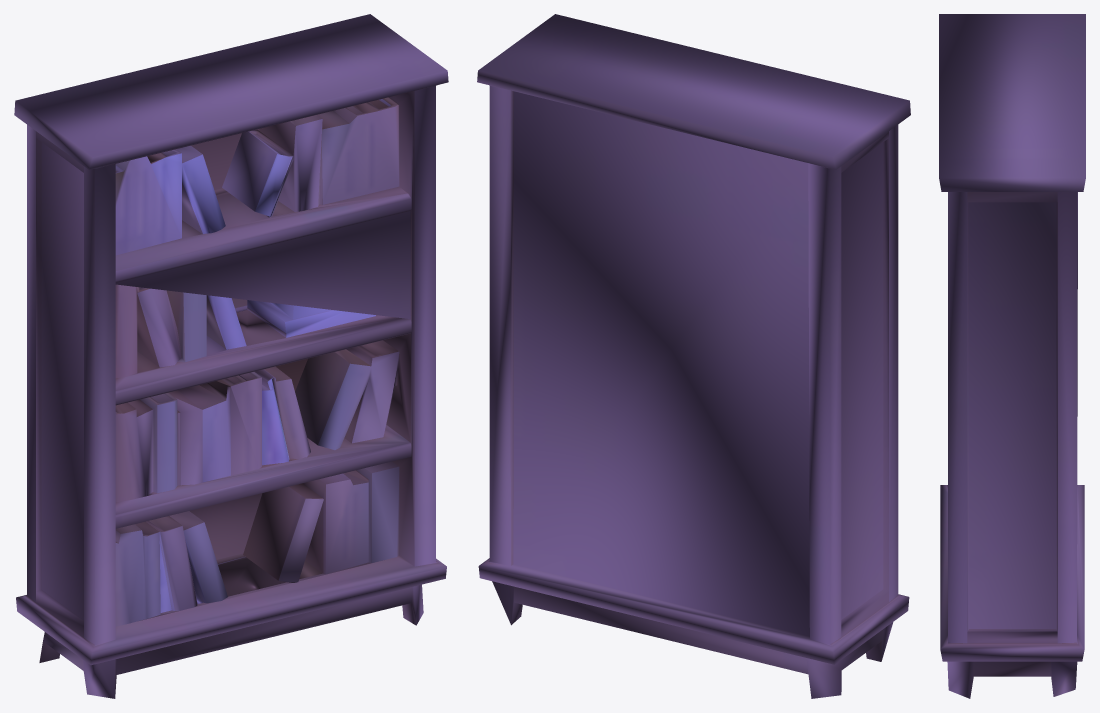
Rendered from model.progressive.glb.
3 views of the same model, side by side, from view 1: azimuth 30°, elevation 25°; view 2: azimuth 150°, elevation 25°; view 3: azimuth 270°, elevation 25° (orthographic). The views are drawn at different scales.
Visible parts, largest first — view 1: material; view 2: material; view 3: material.
Part boxes in pixels (<box>): material: <box>14,14,448,698</box>; material: <box>477,14,910,698</box>; material: <box>939,14,1085,698</box>.
Size of the model in its own units: 1.28 by 1.88 by 0.4784.
1 material, 1 textured.
